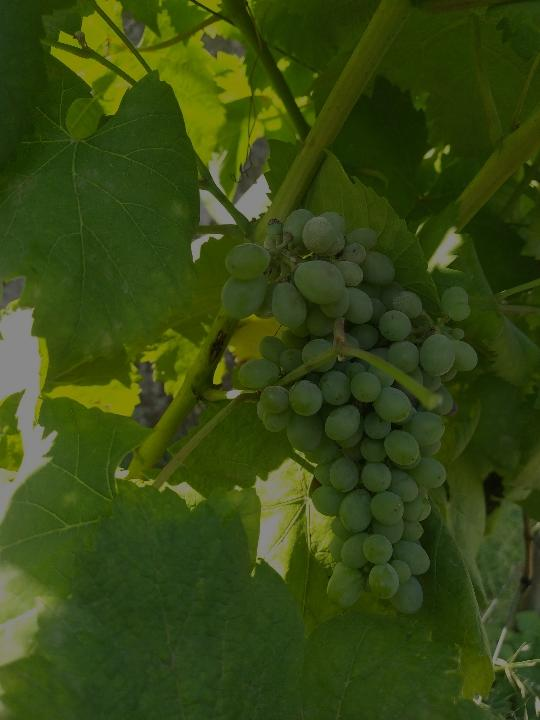grape: (219, 211, 479, 616)
